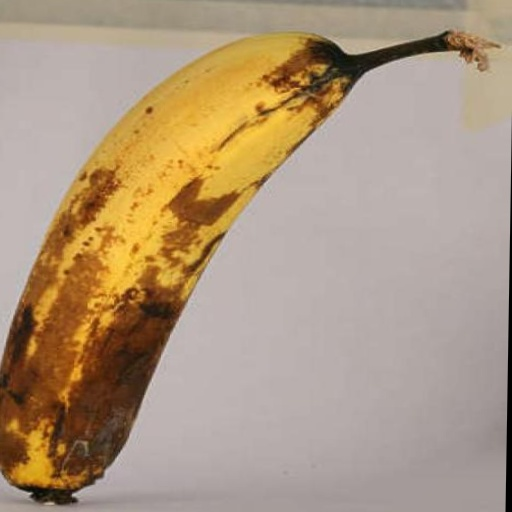fruit: (0, 32, 493, 503)
